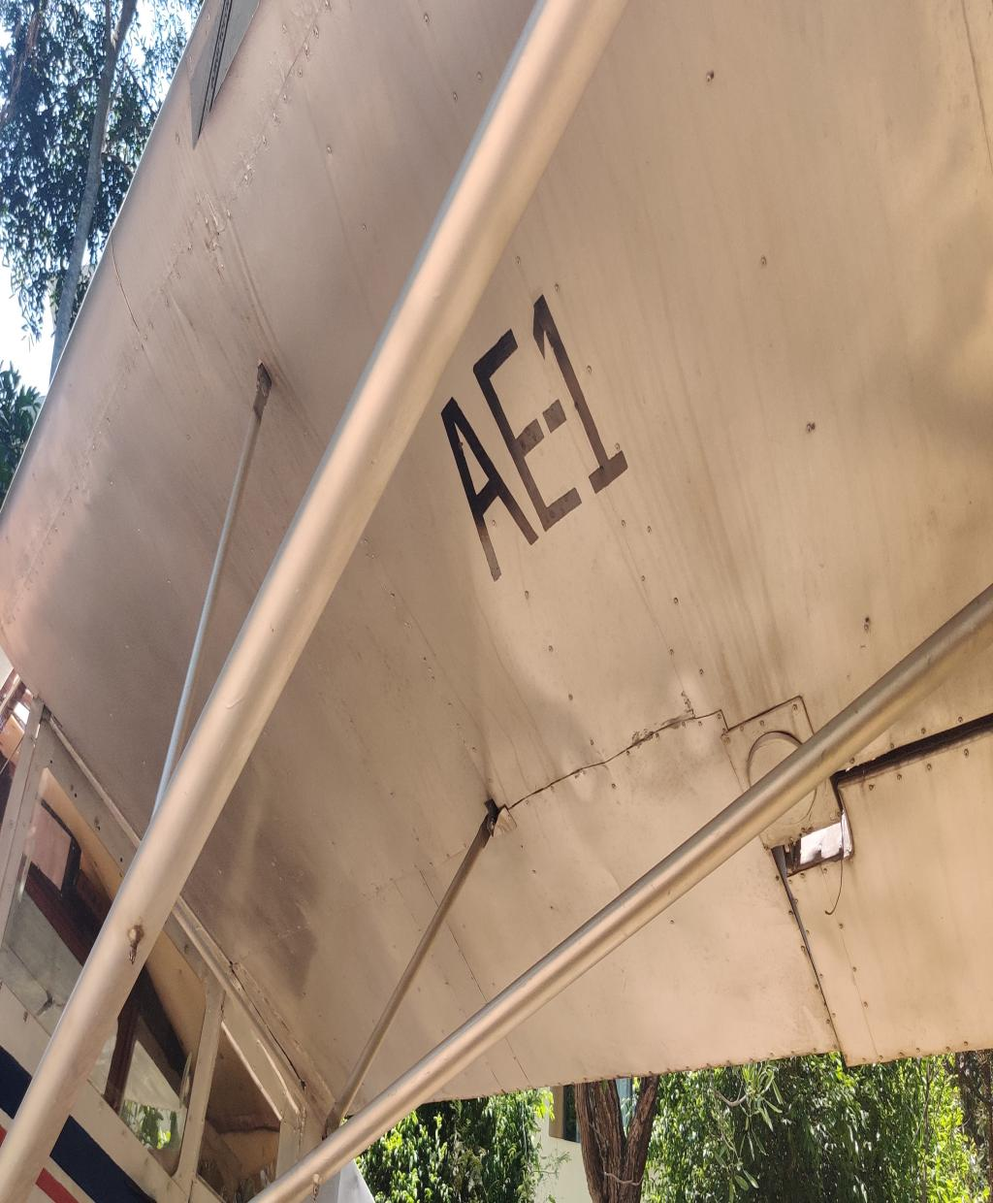dent: (533, 660, 720, 818)
